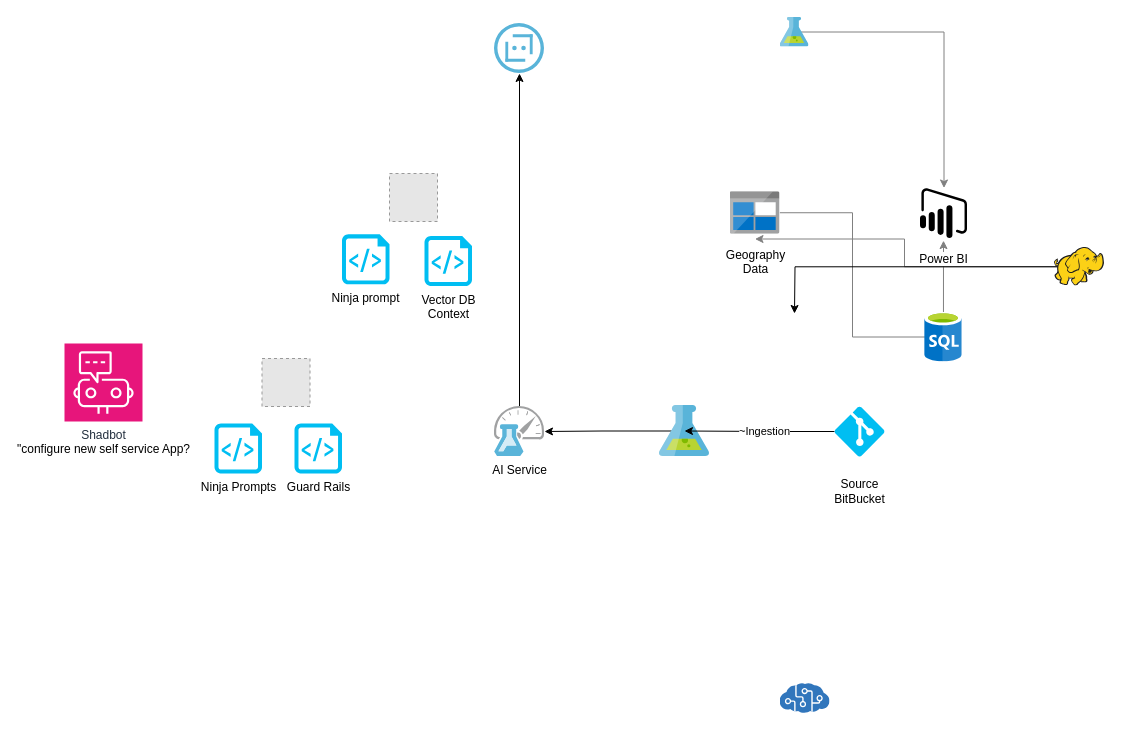
Some shapes in this 1123 by 731 pixel diagram are drawn without their labels. Grey dashed boxes stand in for pictures. Here are the shapes that lost their labels. From the top down, the box of each, then its label:
(494, 23, 544, 73): Larma
(780, 16, 808, 46): Machine Learning
(1054, 247, 1104, 286): HDInsight
(924, 312, 962, 362): SQL Data Warehouse
(659, 405, 709, 456): Vector Db
